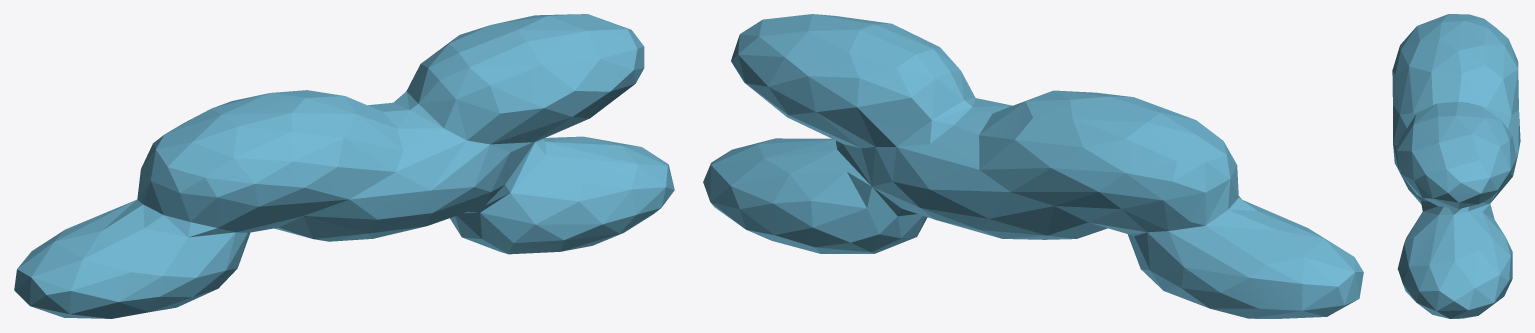
File: oval_cloud_9.fbx
3 renders of one model, left to right at view 1: azimuth 30°, elevation 25°; view 2: azimuth 150°, elevation 25°; view 3: azimuth 270°, elevation 25°, orthographic. The views are drawn at different scales.
Visible parts, largest first — view 1: cloud_69; view 2: cloud_69; view 3: cloud_69.
Boxes of the visible parts, box(x1,y1,x2,y2) form: cloud_69: box(14, 14, 674, 318); cloud_69: box(703, 14, 1363, 318); cloud_69: box(1392, 14, 1520, 318).
Size of the model in its own units: 772 by 252 by 175.
